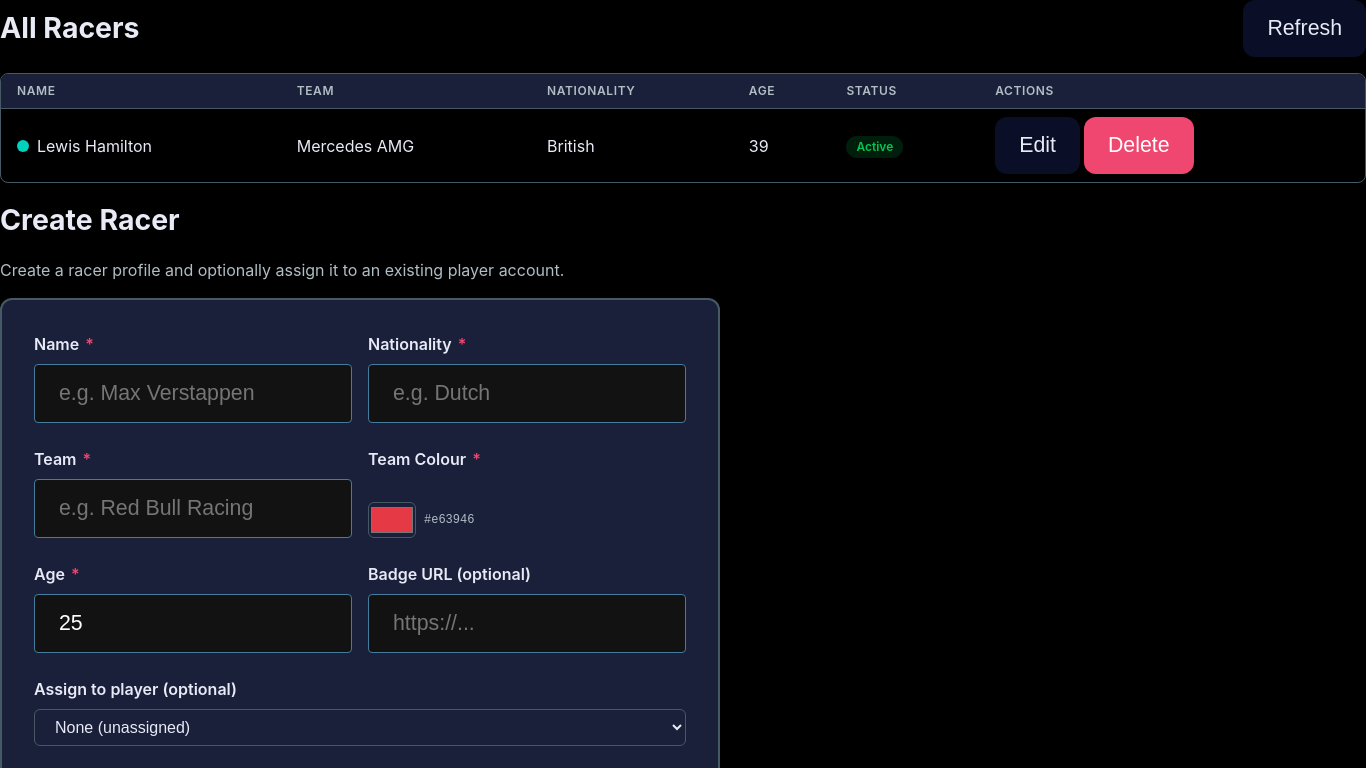
RacerManagementTab › Edit racer › closes the edit modal without updating when Cancel is clicked
Click the button "Edit". click: (1038, 146)
box: [995, 117, 1080, 174]
(page scrolled)
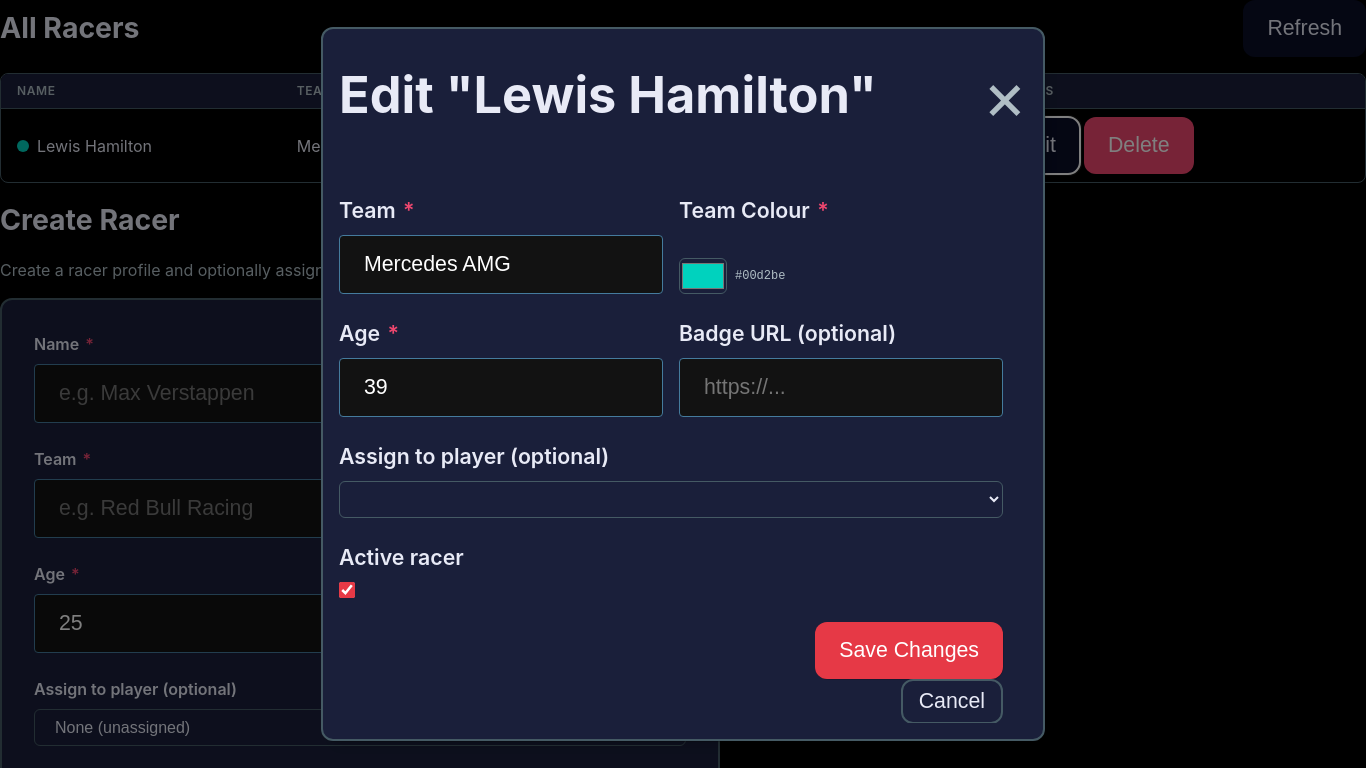
Click the button "Cancel". click: (952, 701)
box: [901, 679, 1003, 724]
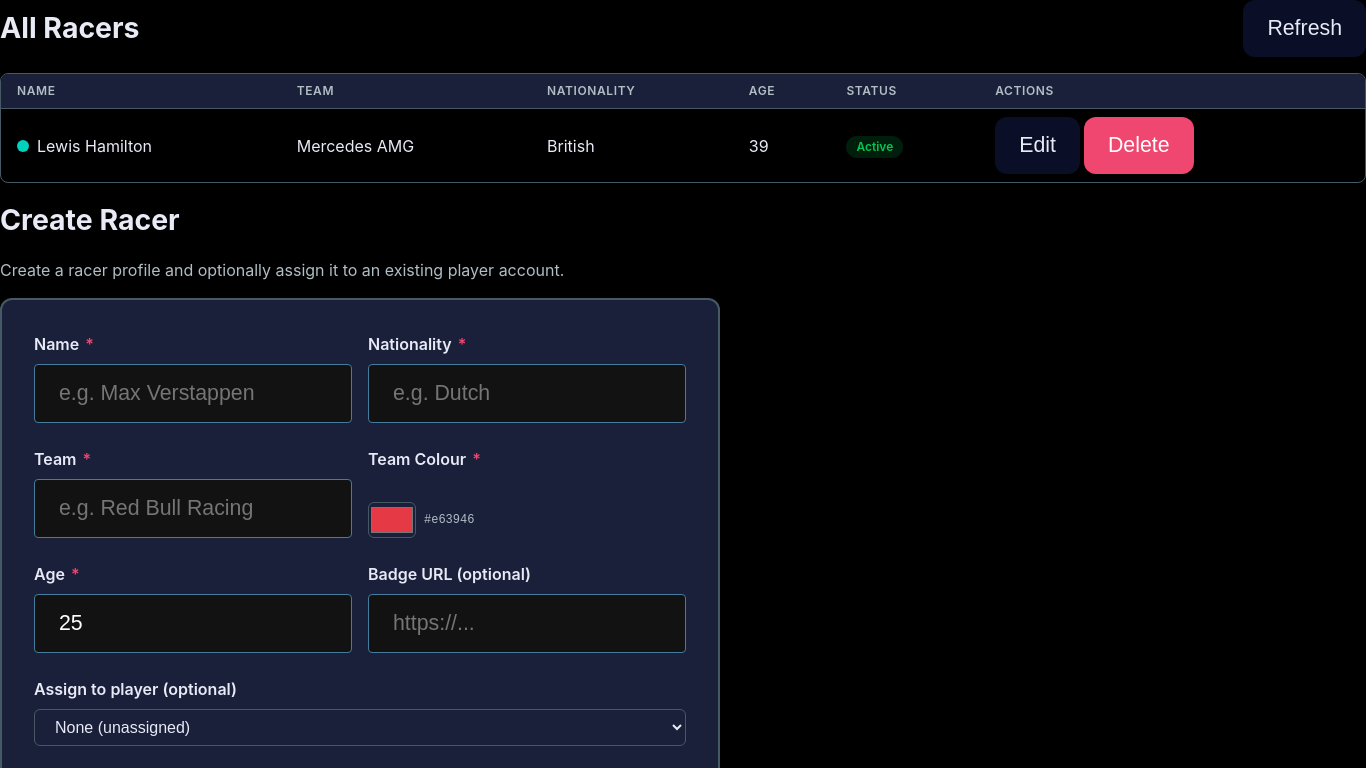
Check: the dialog is gone
